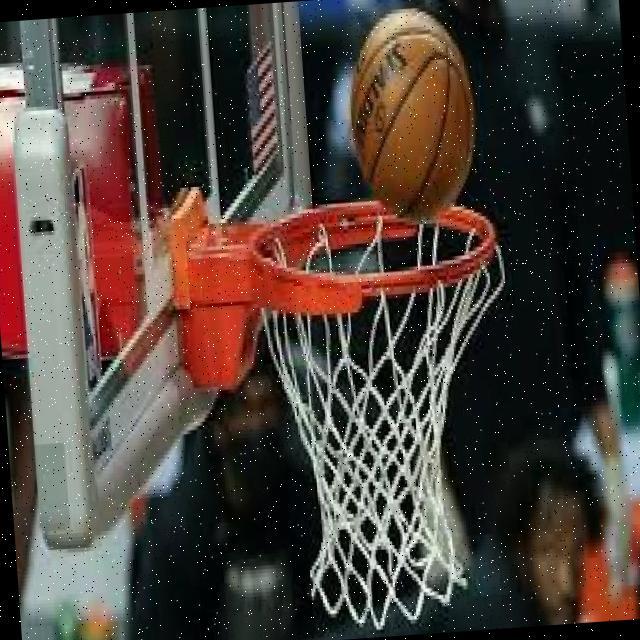ball: (344, 3, 481, 228)
